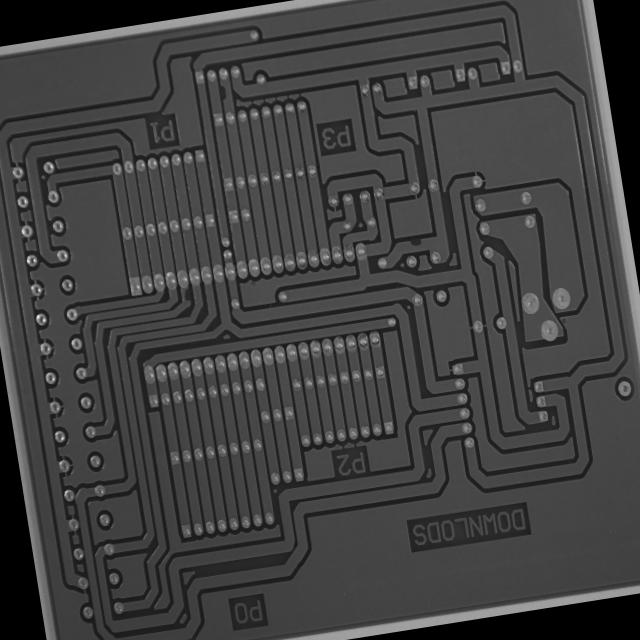mouse_bite: (405, 232, 426, 251), (216, 79, 232, 103), (179, 284, 195, 306)
